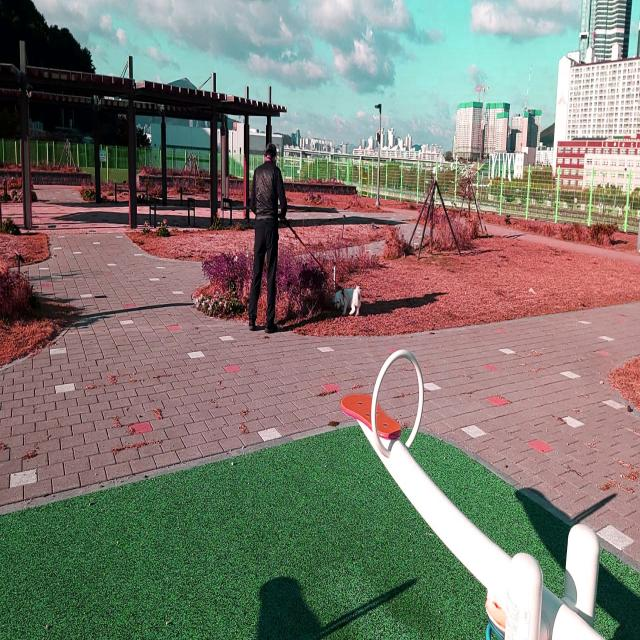Leashed_Dog: (267, 212, 361, 318)
